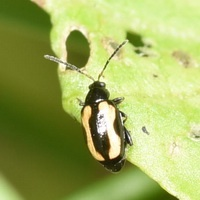insect: (44, 40, 132, 171)
